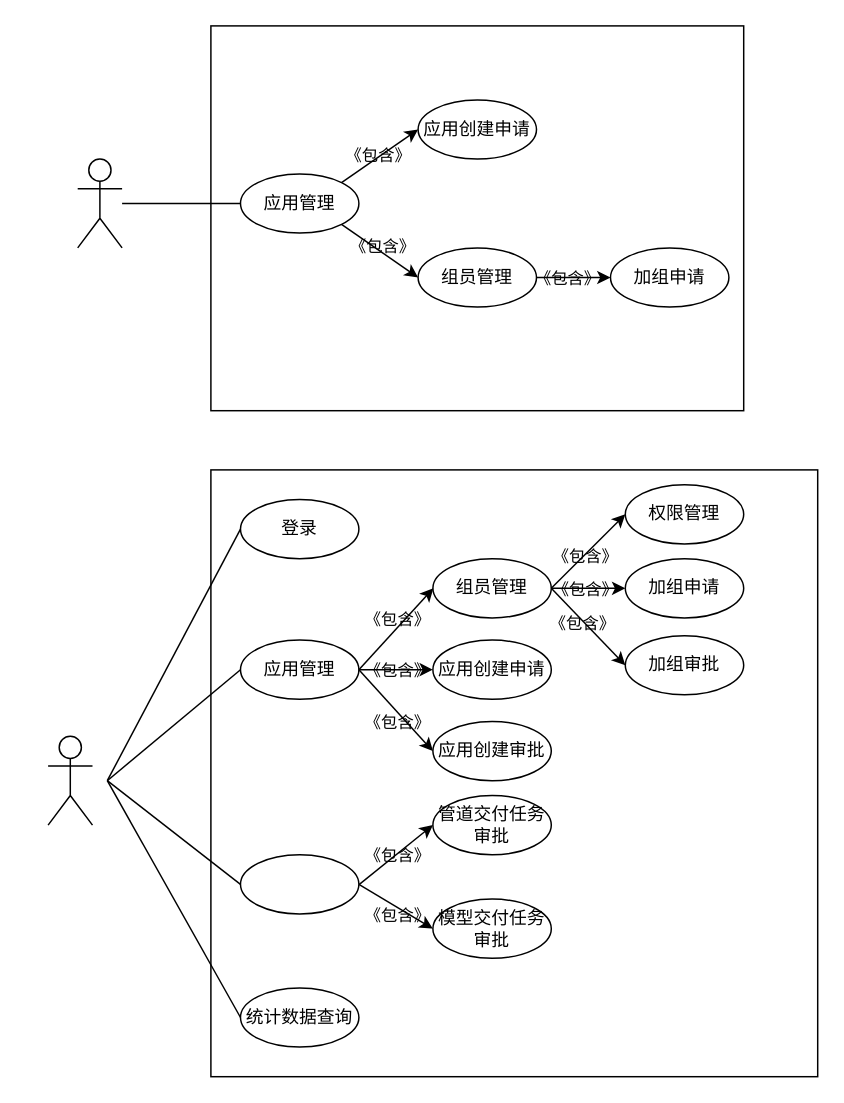
The diagram is 844 pixels wide and 1103 high, and some of its shapes have lost their labels. The box of each missing label's shape, as (x1, y1, x2, y2) in pixels:
应用负责人: (47, 735, 92, 825)
普通用户: (76, 158, 122, 248)
进度管理: (239, 853, 359, 914)
